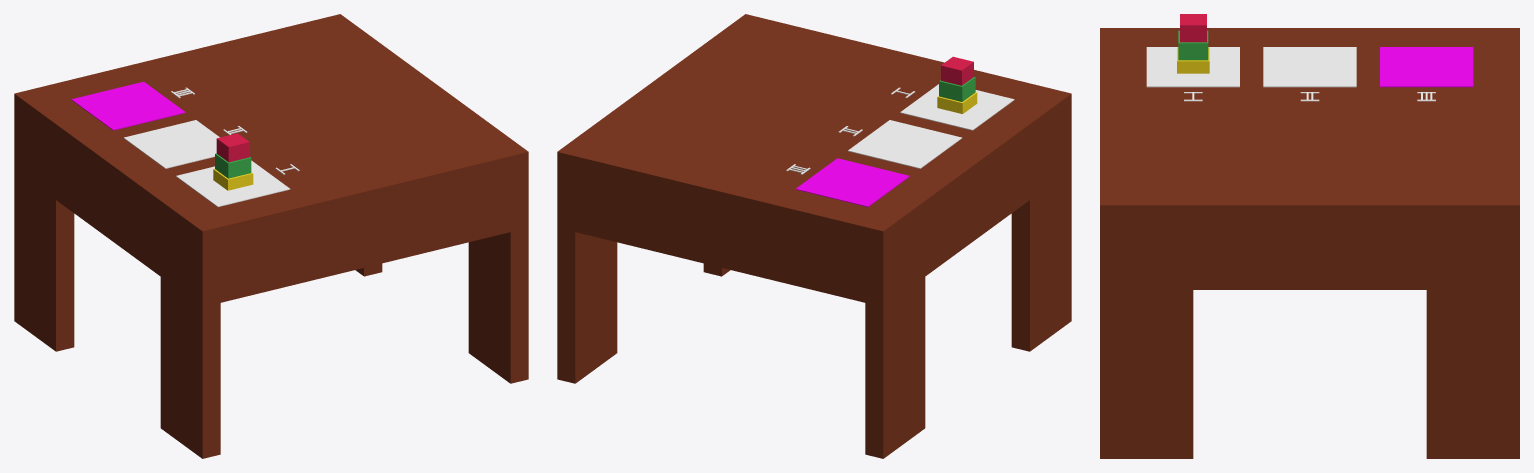
Rendered from hanoi_world_3_boxes_new.dae.
The picture shows the model from 3 angles, left to right: view 1: azimuth 30°, elevation 25°; view 2: azimuth 150°, elevation 25°; view 3: azimuth 270°, elevation 25°; orthographic projection. The views are drawn at different scales.
Parts seen in each view (by area): view 1: base (×10); view 2: base (×10); view 3: base (×9).
Part boxes in pixels (<box>): base (×10): <box>14,14,528,458</box>; base (×10): <box>557,14,1071,458</box>; base (×9): <box>1100,14,1519,458</box>.
Bounding box in the file's own units: 0.9 × 0.9 × 0.713.
